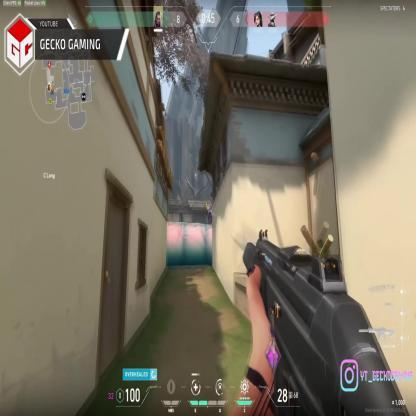enemy: (208, 200, 214, 224)
enemy_head: (208, 200, 212, 204)
